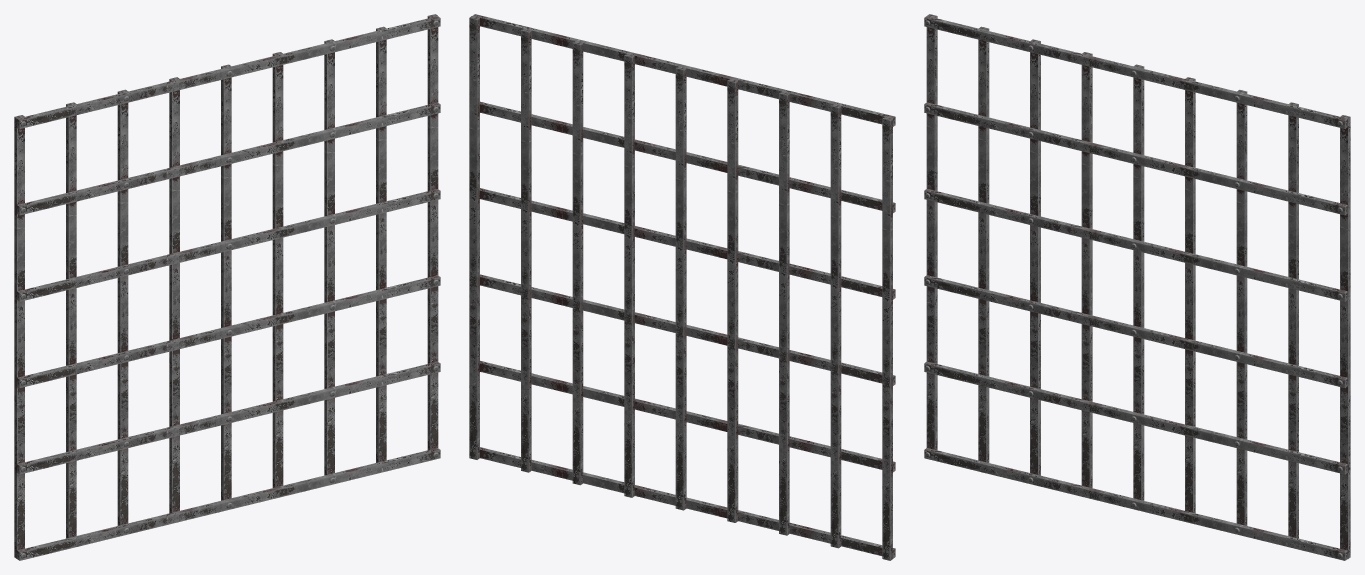
File: Cell.fbx
3 renders of one model, left to right at view 1: azimuth 30°, elevation 25°; view 2: azimuth 150°, elevation 25°; view 3: azimuth 330°, elevation 25°, orthographic.
Visible parts, largest first — view 1: Cylinder.003; view 2: Cylinder.003; view 3: Cylinder.003.
Part boxes in pixels (x1,y1,x2,y2): Cylinder.003: [14, 14, 440, 560]; Cylinder.003: [469, 14, 895, 560]; Cylinder.003: [924, 14, 1350, 560].
Bounding box in the file's own units: 250 × 250 × 6.09.
